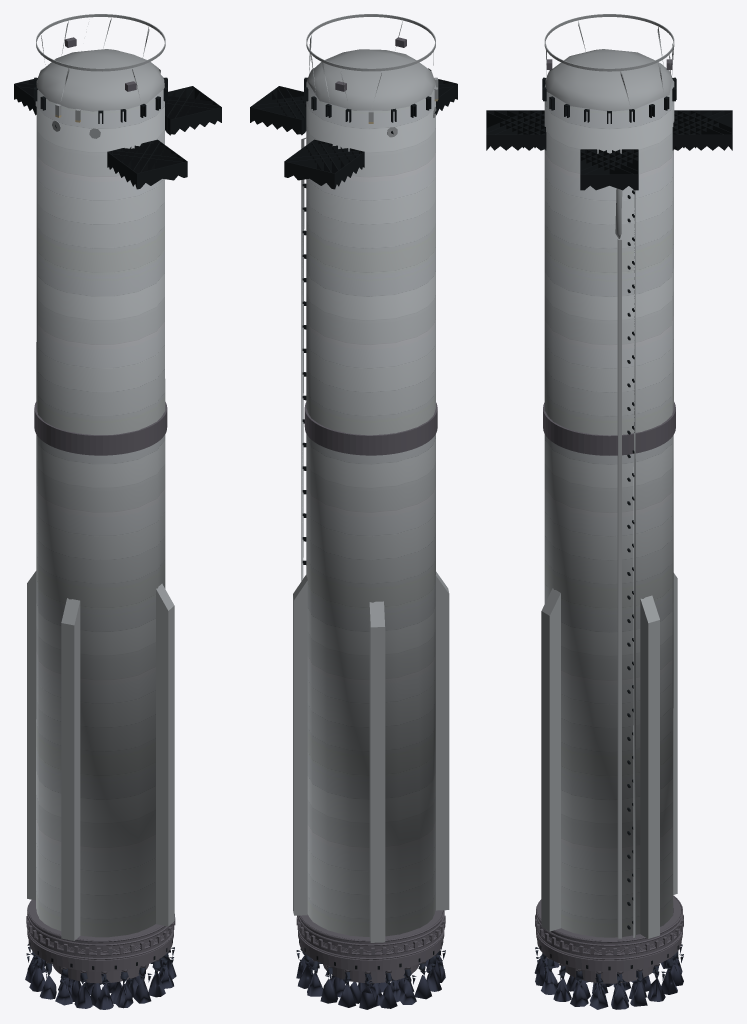
Rendered from superheavy.glb.
3 views of the same model, side by side, from view 1: azimuth 30°, elevation 25°; view 2: azimuth 150°, elevation 25°; view 3: azimuth 270°, elevation 25° (orthographic).
Visible parts, largest first — view 1: booster_tank, booster_aft_clamp_00, booster_chine_0; view 2: booster_tank, booster_aft_clamp_00, booster_chine_0; view 3: booster_tank, booster_aft_clamp_00, booster_chine_0.
Boxes of the visible parts, <box> form: booster_tank: <box>36,75,165,937</box>; booster_aft_clamp_00: <box>14,14,221,1009</box>; booster_chine_0: <box>27,571,174,940</box>; booster_tank: <box>306,81,435,936</box>; booster_aft_clamp_00: <box>250,14,457,1009</box>; booster_chine_0: <box>293,571,449,942</box>; booster_tank: <box>544,79,674,937</box>; booster_aft_clamp_00: <box>486,14,732,1009</box>; booster_chine_0: <box>541,573,677,938</box>.
Size of the model in its own units: 13.72 by 72.3 by 17.05.
Materials: 4 (4 with a texture image).
